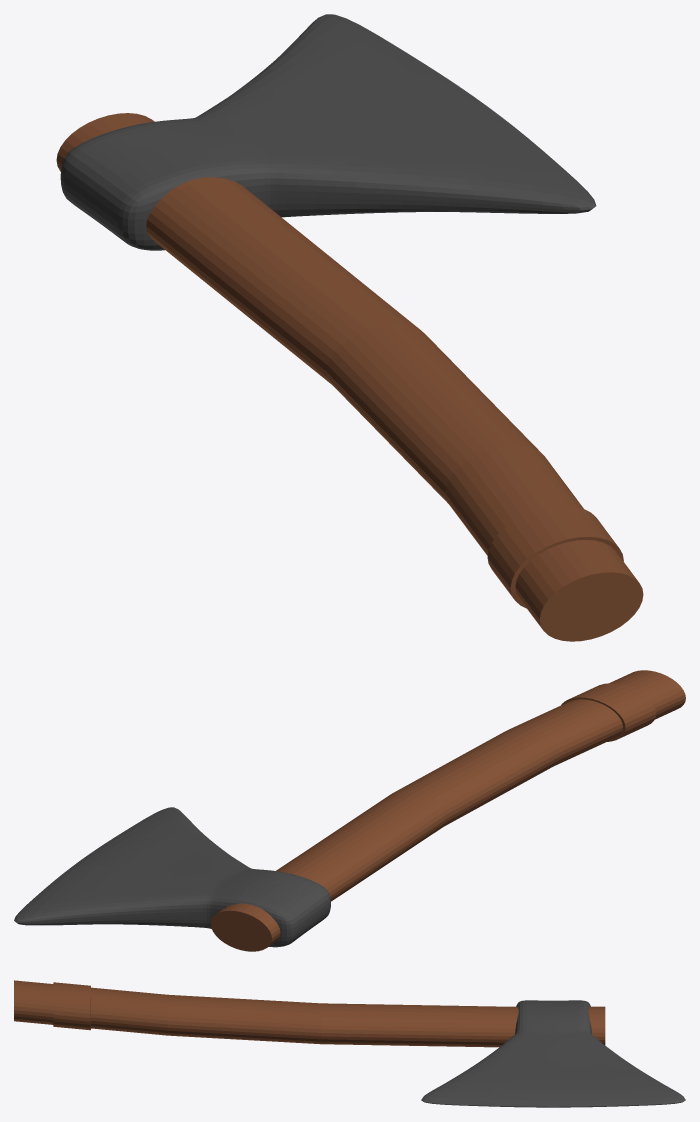
File: Rock Axe.fbx
The picture shows the model from 3 angles, top to bottom: view 1: azimuth 30°, elevation 25°; view 2: azimuth 150°, elevation 25°; view 3: azimuth 270°, elevation 25°; orthographic projection. The views are drawn at different scales.
Parts seen in each view (by area): view 1: Cylinder, Cube; view 2: Cylinder, Cube; view 3: Cylinder, Cube.
Boxes of the visible parts, bbox=[...] form: Cylinder: bbox=[56, 113, 643, 641]; Cube: bbox=[60, 14, 596, 250]; Cylinder: bbox=[210, 670, 685, 951]; Cube: bbox=[14, 807, 330, 947]; Cylinder: bbox=[14, 980, 605, 1047]; Cube: bbox=[421, 1000, 685, 1107].
Bounding box in the file's own units: 729 × 107 × 1744.
